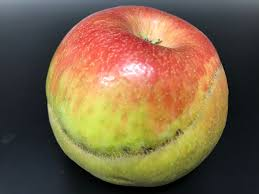damaged_apple: (49, 15, 229, 185)
